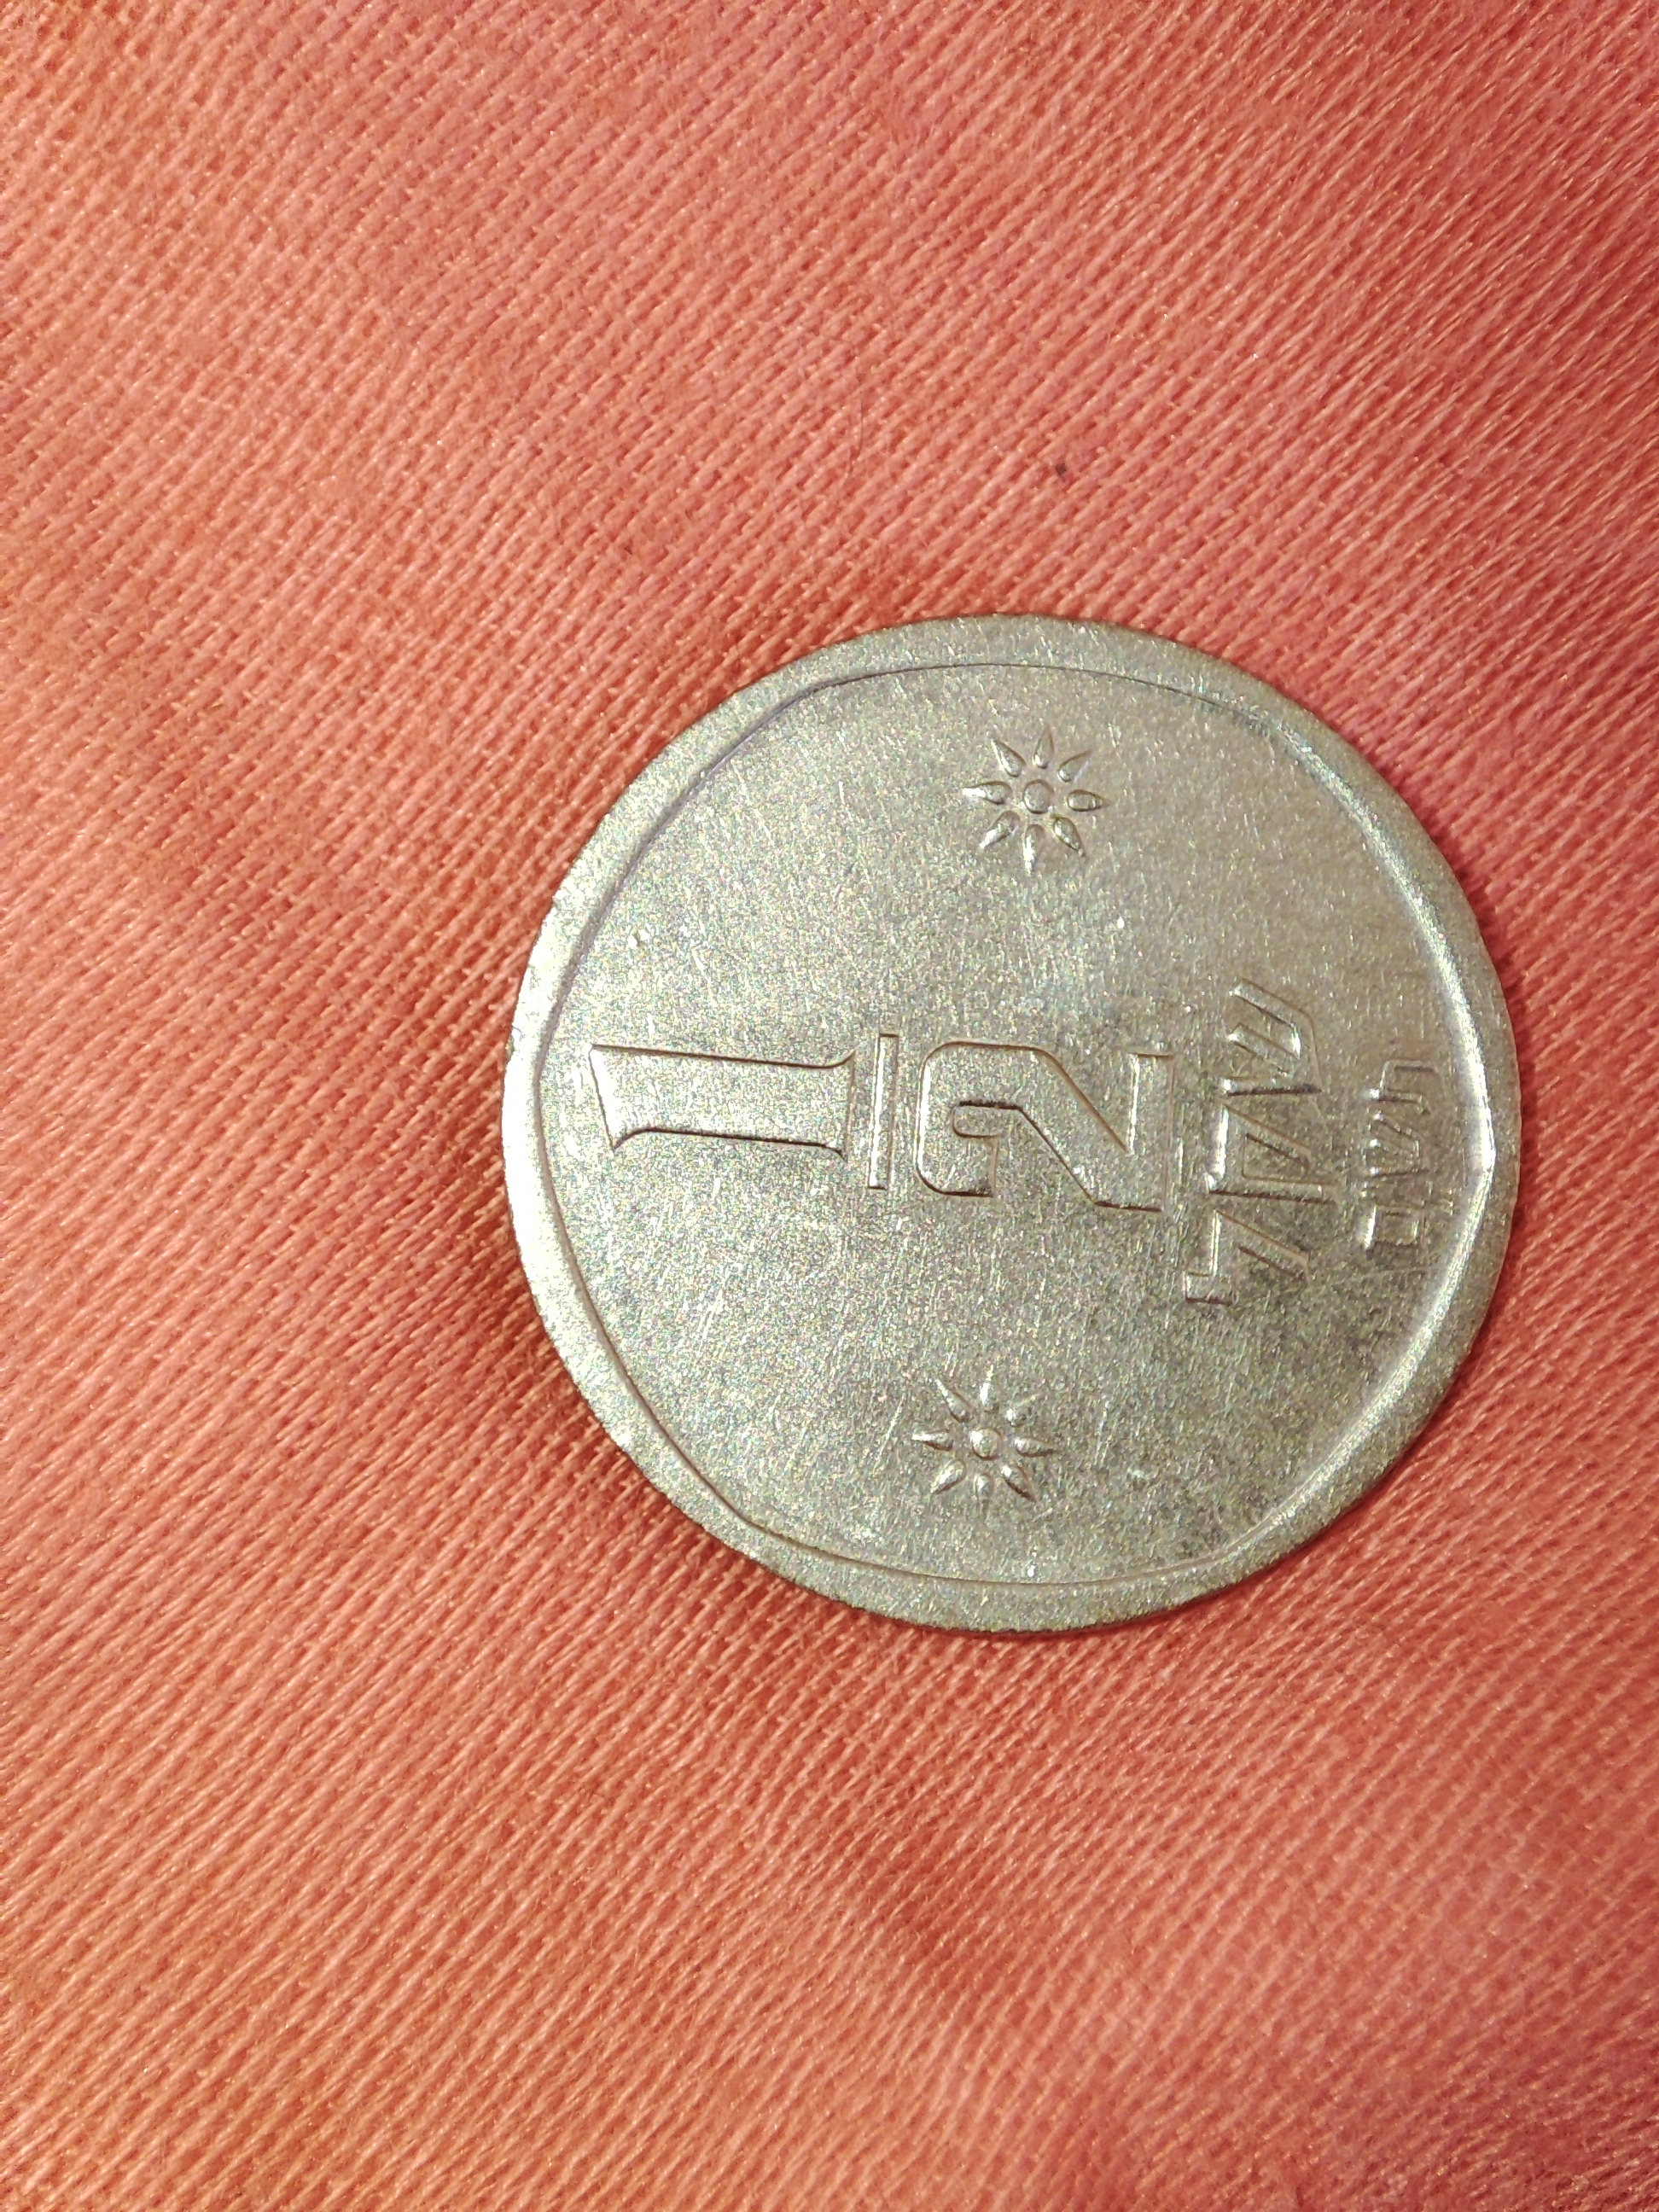1/2 old sheqel: (495, 606, 1534, 1642)
